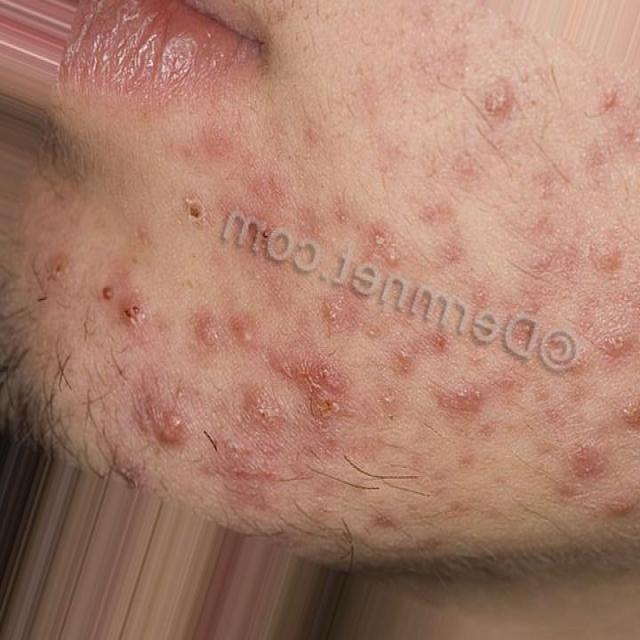Acne: (288, 340, 348, 424), (357, 214, 418, 293), (143, 382, 198, 456), (97, 269, 153, 335), (395, 328, 464, 378), (441, 384, 535, 420), (595, 64, 633, 148), (526, 157, 568, 232), (592, 304, 636, 374), (191, 317, 266, 353), (577, 420, 610, 492), (174, 183, 222, 232), (607, 381, 640, 451), (219, 423, 255, 485), (483, 75, 521, 132), (588, 225, 632, 274), (526, 241, 563, 299), (239, 378, 283, 425), (611, 481, 640, 552), (319, 275, 353, 334), (41, 260, 87, 297), (418, 191, 461, 227), (464, 266, 495, 314), (371, 386, 404, 422)
